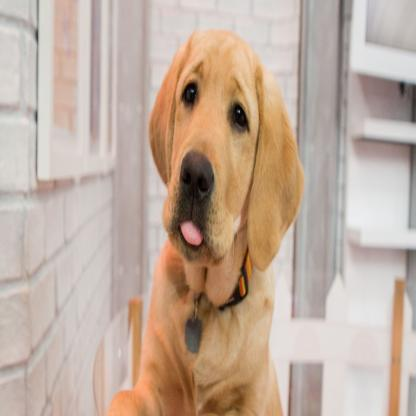Labarador Retriever: (108, 32, 303, 416)
